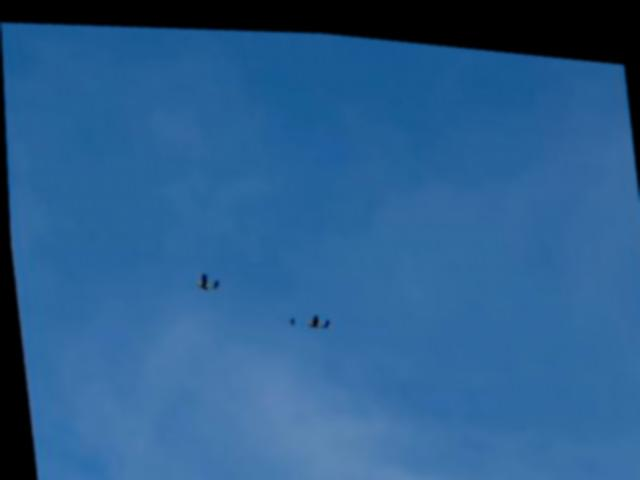uav: (192, 264, 219, 290), (303, 305, 329, 326)
